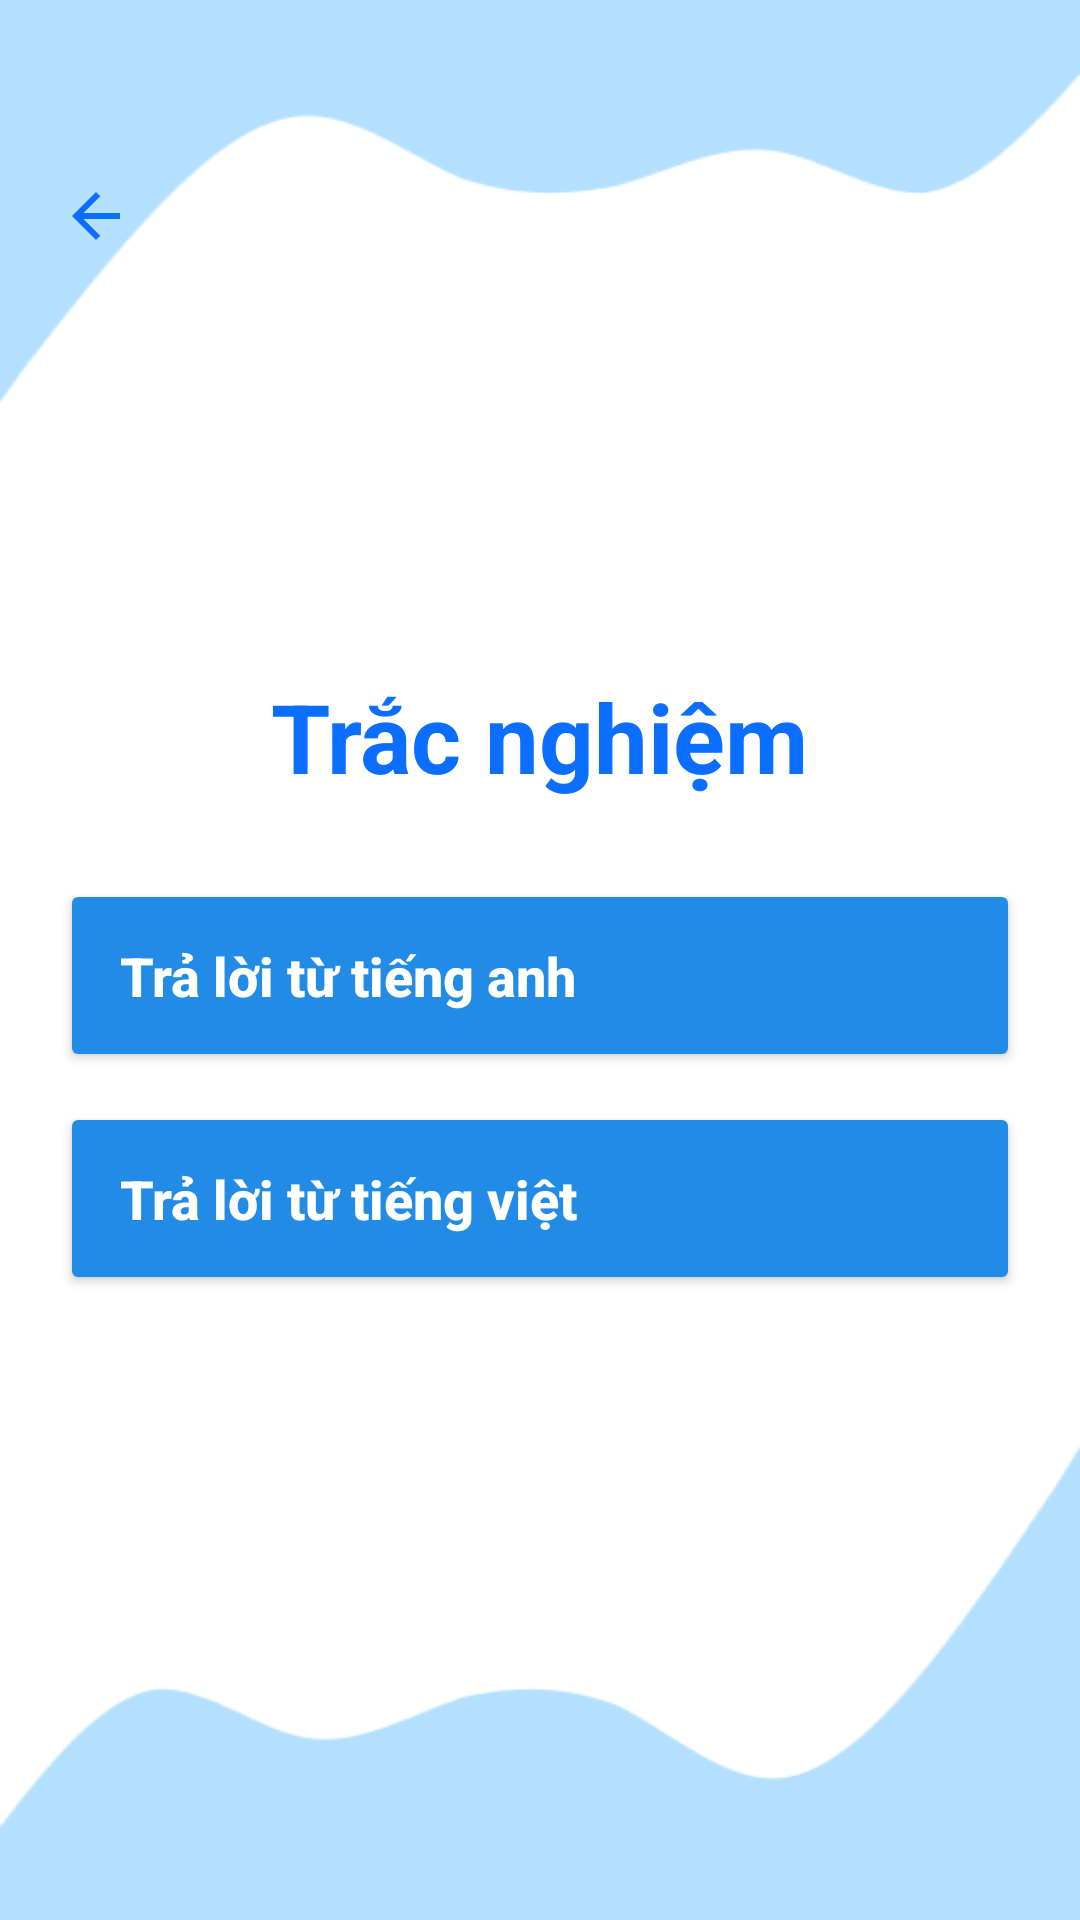

Icons on this 1080×1920 Android screen, each with the point to tap as (x=x, y=y):
arrow back: (x=96, y=216)
